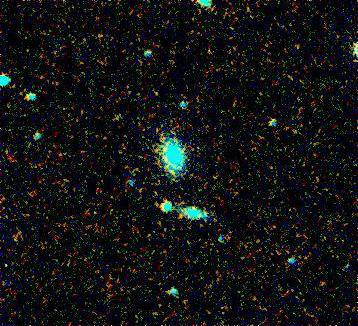star: (117, 157, 147, 187)
